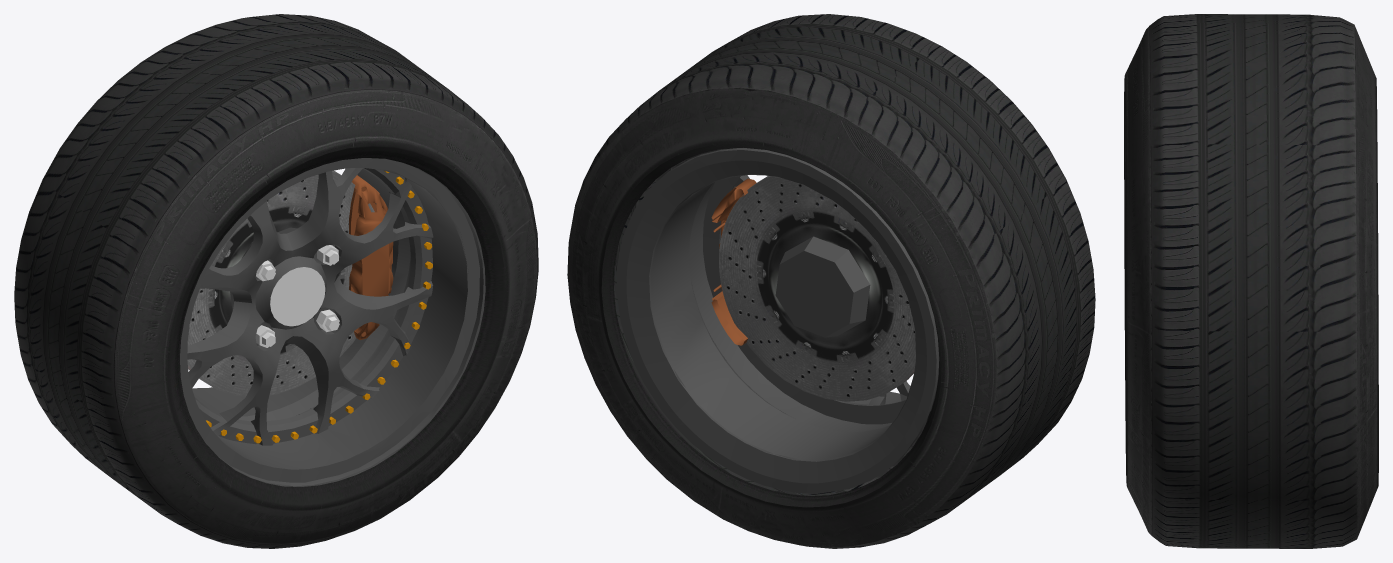
File: Tyre_Type_3.fbx
3 renders of one model, left to right at view 1: azimuth 30°, elevation 25°; view 2: azimuth 150°, elevation 25°; view 3: azimuth 270°, elevation 25°, orthographic. The views are drawn at different scales.
Parts seen in each view (by area): view 1: Rubber, Rim3, Rim, Disc, Caliper, Outer Screws; view 2: Rubber, Rim, Disc, Rim3, Caliper; view 3: Rubber.
Part boxes in pixels (x1,y1,x2,y2): Rubber: (14,14,538,548); Rim3: (187,168,433,445); Rim: (180,158,485,486); Disc: (187,170,374,396); Caliper: (349,175,393,339); Outer Screws: (206,170,432,443); Rubber: (567,14,1095,548); Rim: (617,148,939,493); Disc: (719,176,915,401); Rim3: (703,175,910,424); Caliper: (711,178,756,345); Rubber: (1124,14,1378,548).
Size of the model in its own units: 55.47 by 55.36 by 26.42.
